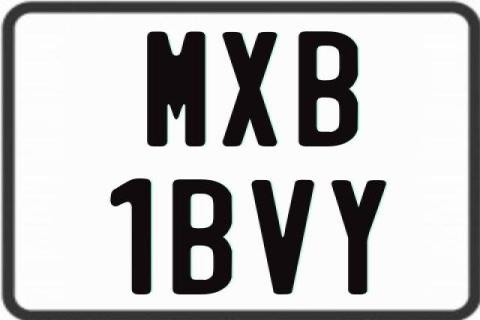0: (107, 176, 149, 293)
B: (298, 31, 359, 151), (171, 177, 234, 293)
M: (146, 29, 210, 149)
V: (252, 179, 318, 297)
X: (220, 31, 276, 146)
Y: (331, 180, 386, 299)
